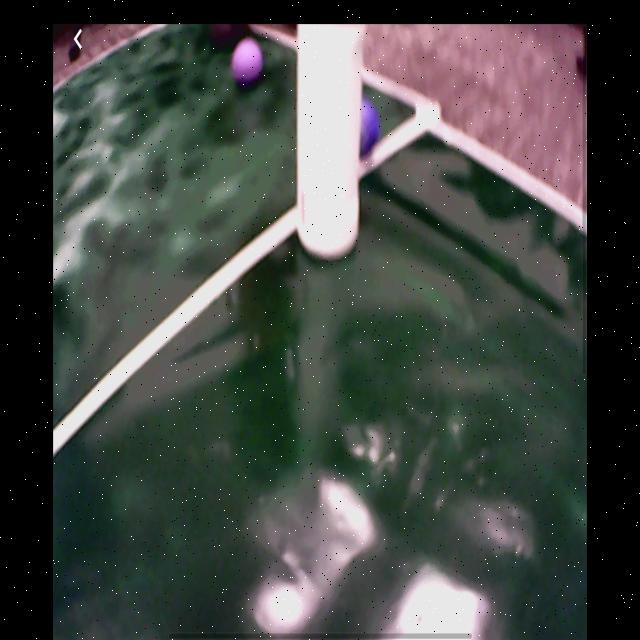ball: (233, 39, 267, 88), (357, 101, 379, 157)
